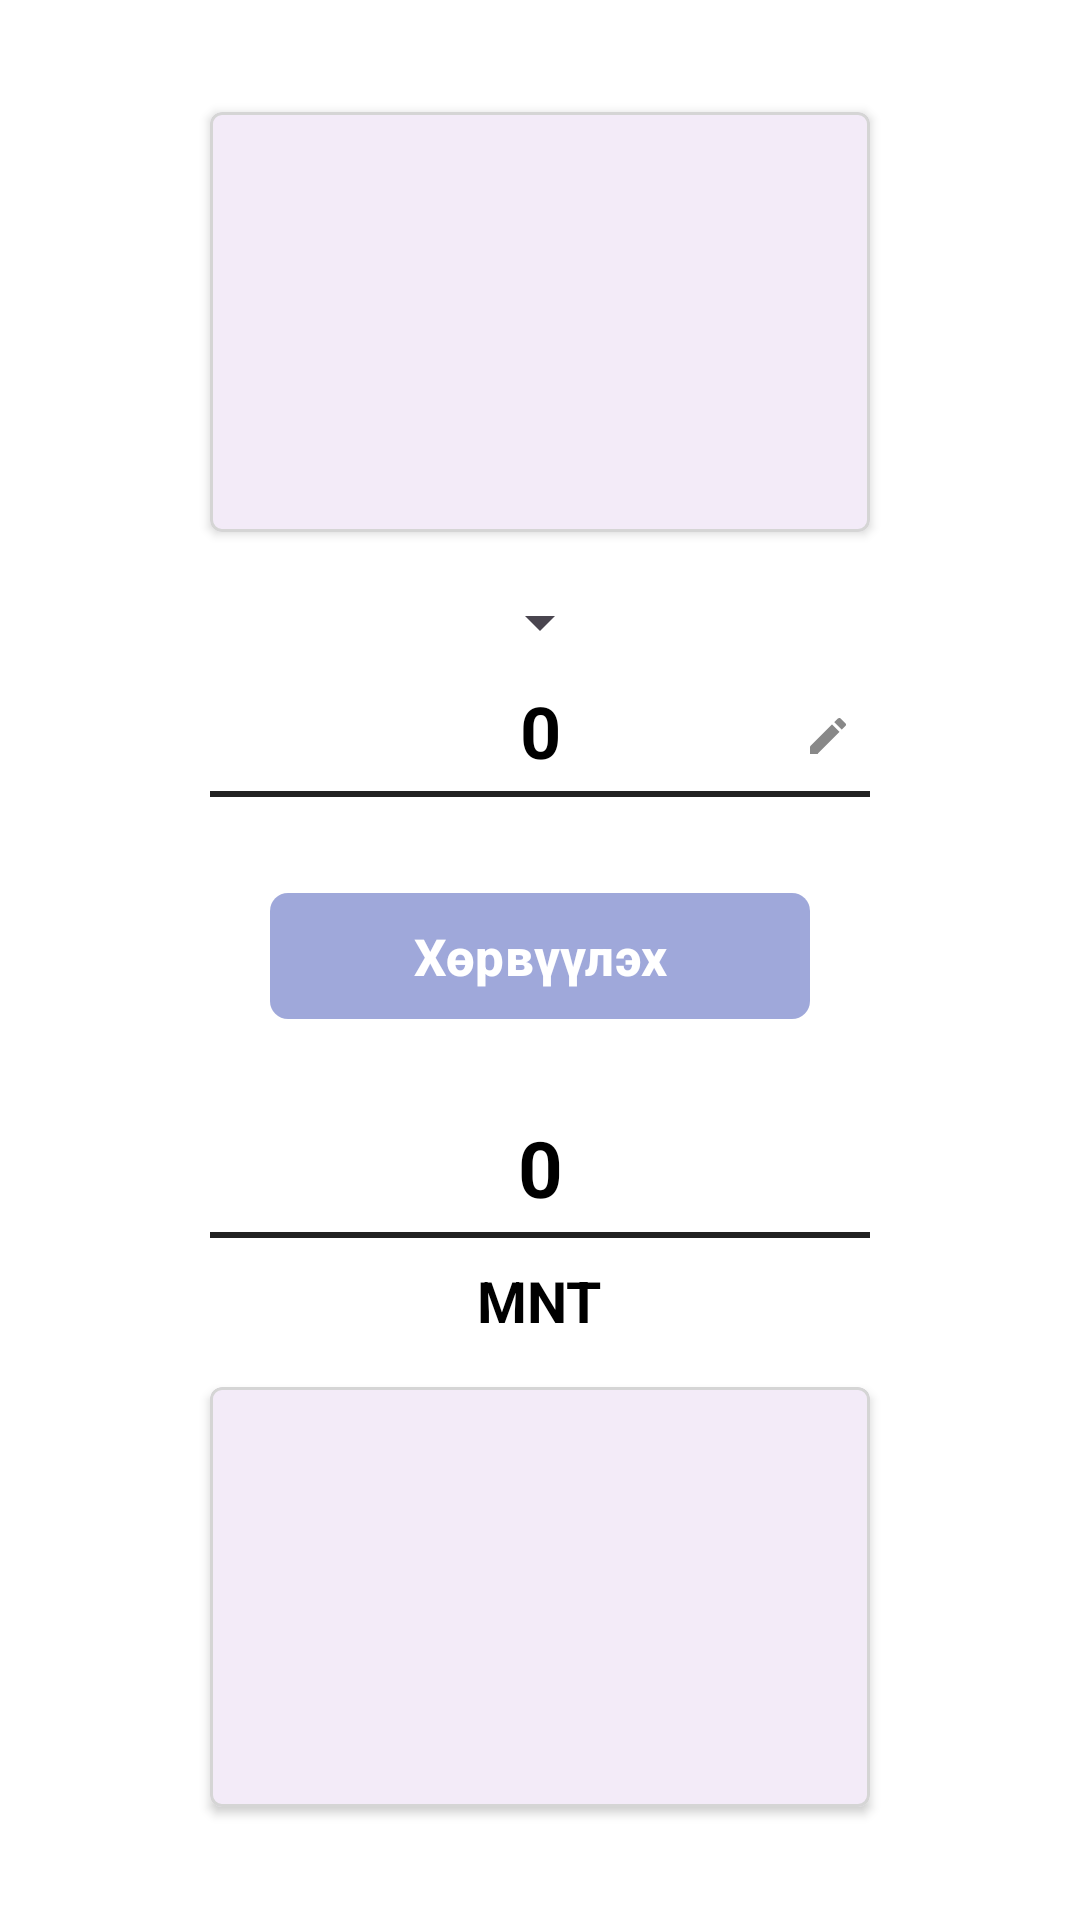

Where icons sit on this 1080px x 1920px app screen, as (x1,y1,x2,y2):
edit pencil: (810,718,846,754)
